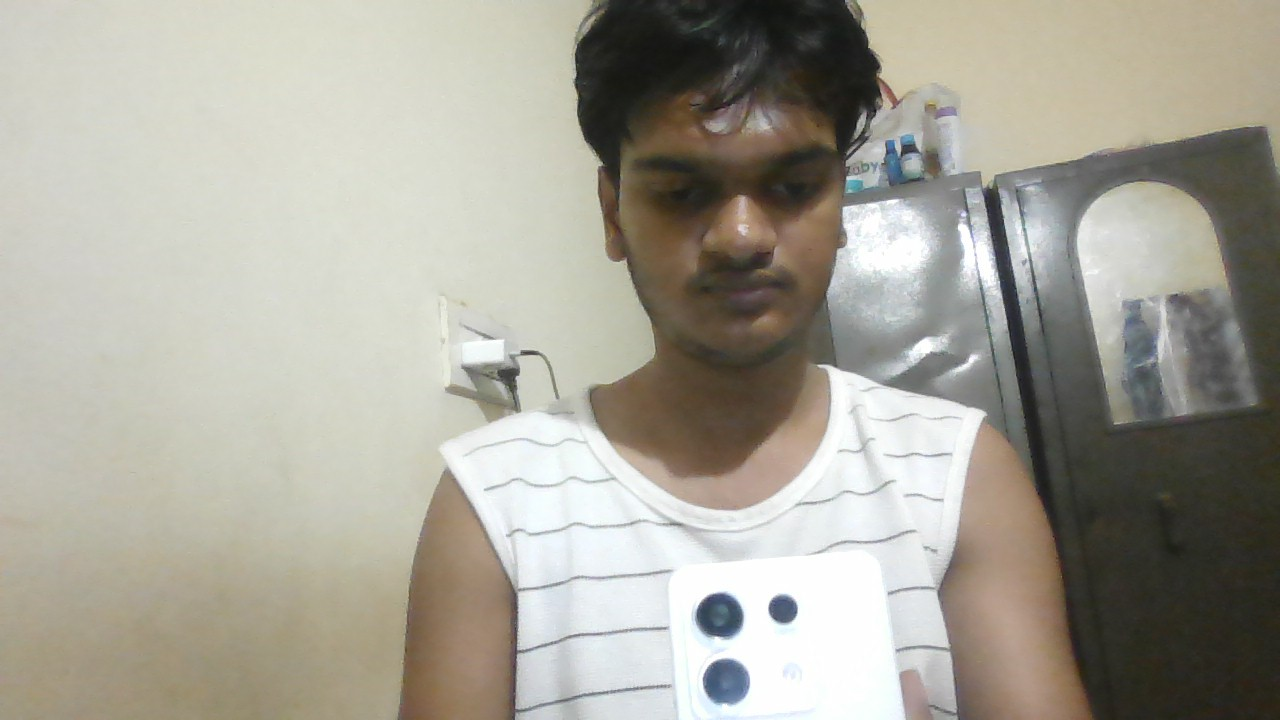phone: (668, 562, 898, 720)
